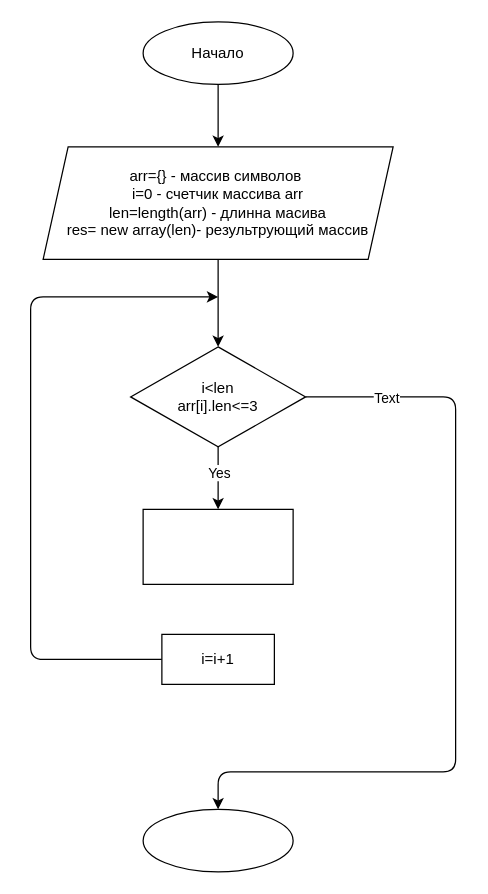
This 488x894 diagram has some shape labels left out. The shapes that lost their labels are listed below. From the top down, each one's centre as x and y in pixels, then its label:
At (217,546): "res[i]=arr[i]".
At (217,840): "Конец".
